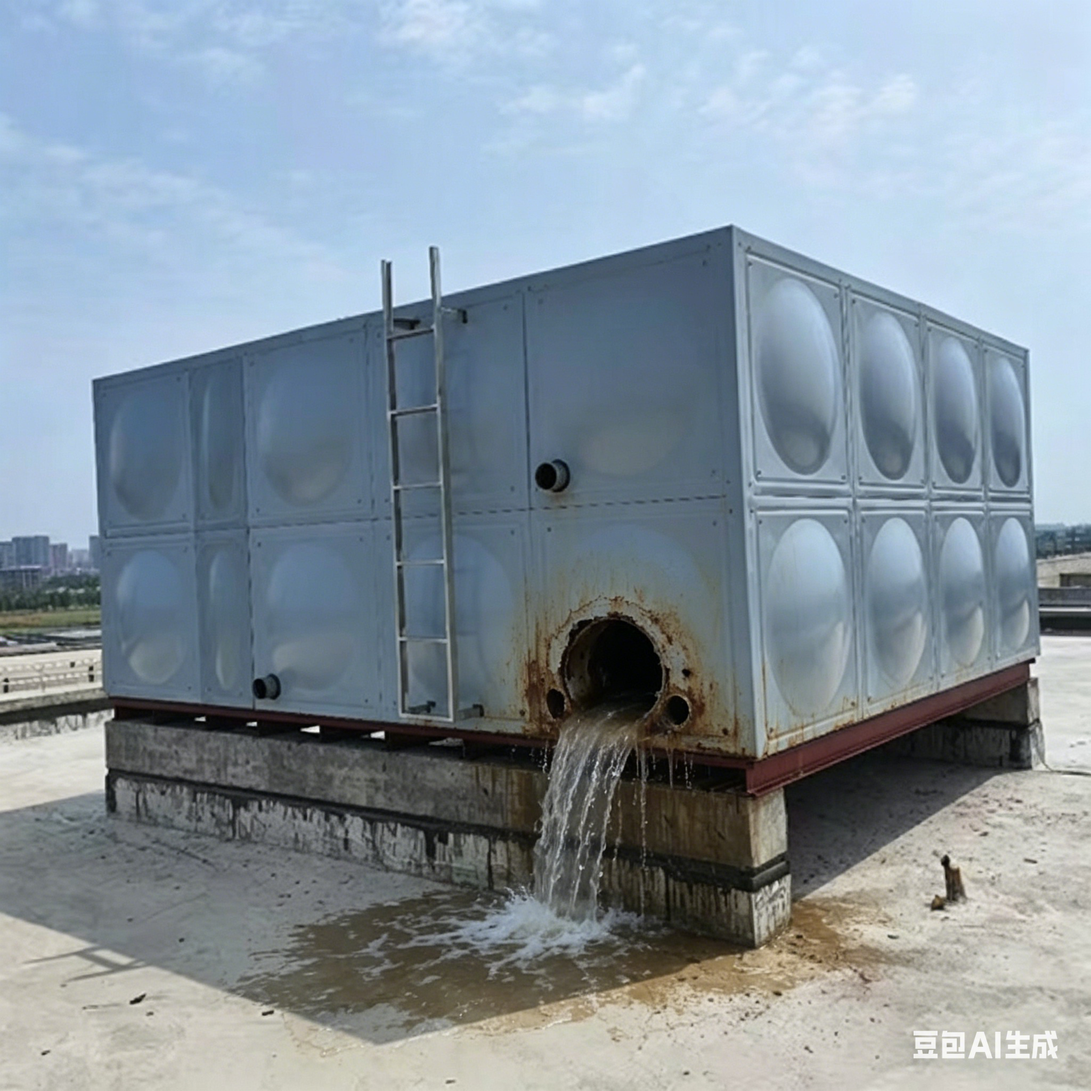Leakage: (481, 630, 740, 971), (297, 888, 475, 1015)
